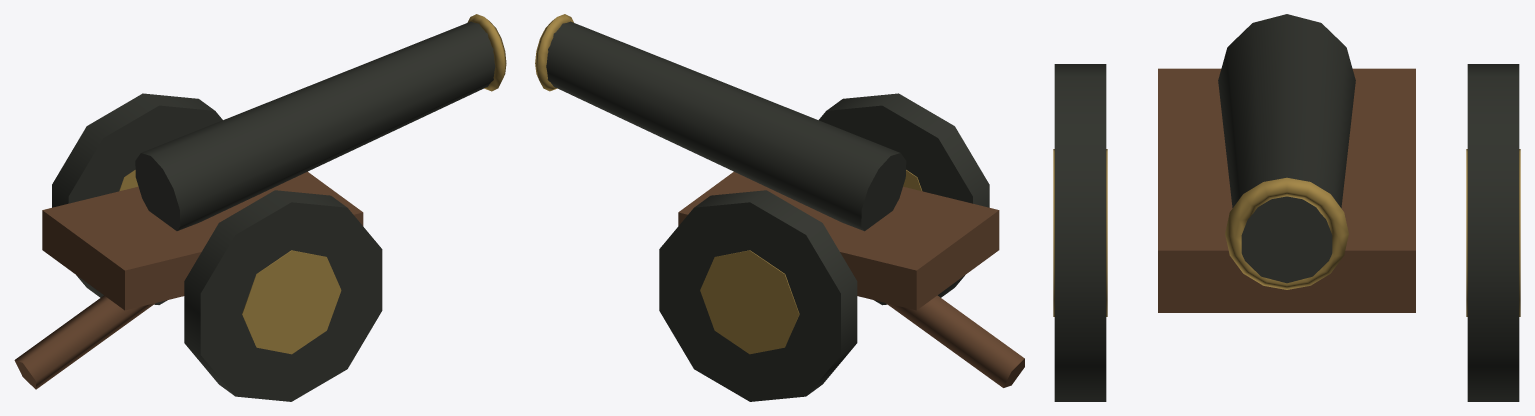
Rendered from custom-unit-artillery.glb.
3 renders of one model, left to right at view 1: azimuth 30°, elevation 25°; view 2: azimuth 150°, elevation 25°; view 3: azimuth 270°, elevation 25°, orthographic. The views are drawn at different scales.
Parts seen in each view (by area): view 1: custom-unit-artillery; view 2: custom-unit-artillery; view 3: custom-unit-artillery.
Boxes of the visible parts, x1=… form: custom-unit-artillery: x1=14, y1=14, x2=506, y2=401; custom-unit-artillery: x1=535, y1=14, x2=1024, y2=401; custom-unit-artillery: x1=1053, y1=14, x2=1520, y2=401.
Bounding box in the file's own units: 1 × 0.538 × 0.5491.
